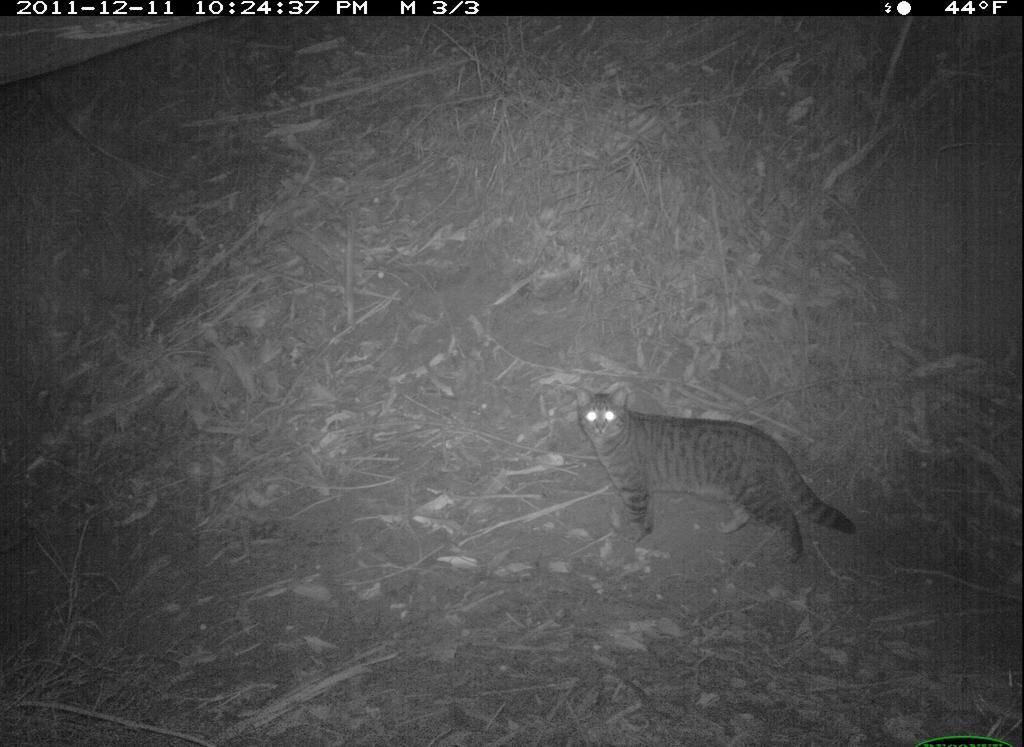cat: (566, 379, 865, 565)
